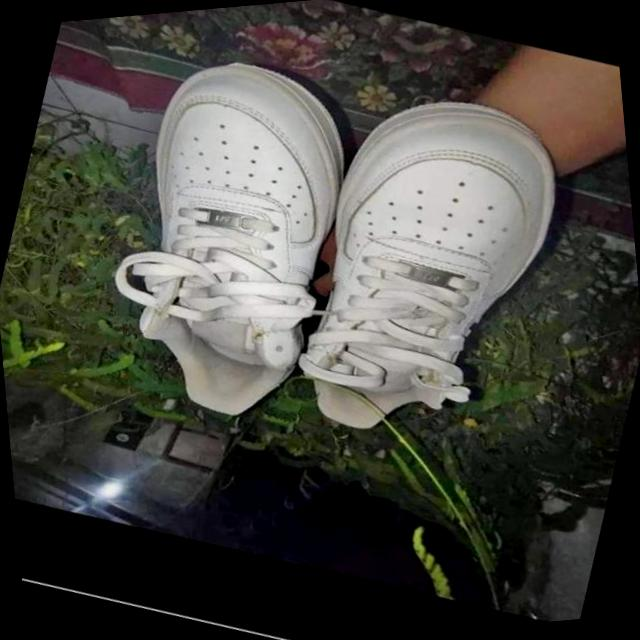nike_fake_airforce: (252, 55, 600, 478), (69, 28, 397, 444)
